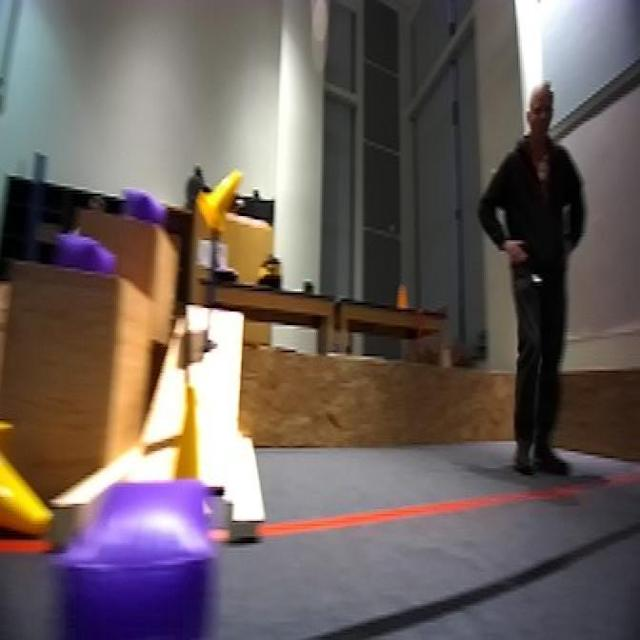frc_cone: (156, 379, 234, 538), (0, 422, 62, 555), (197, 162, 250, 236)
frc_cube: (34, 461, 230, 640), (49, 225, 123, 281), (120, 184, 157, 223)
